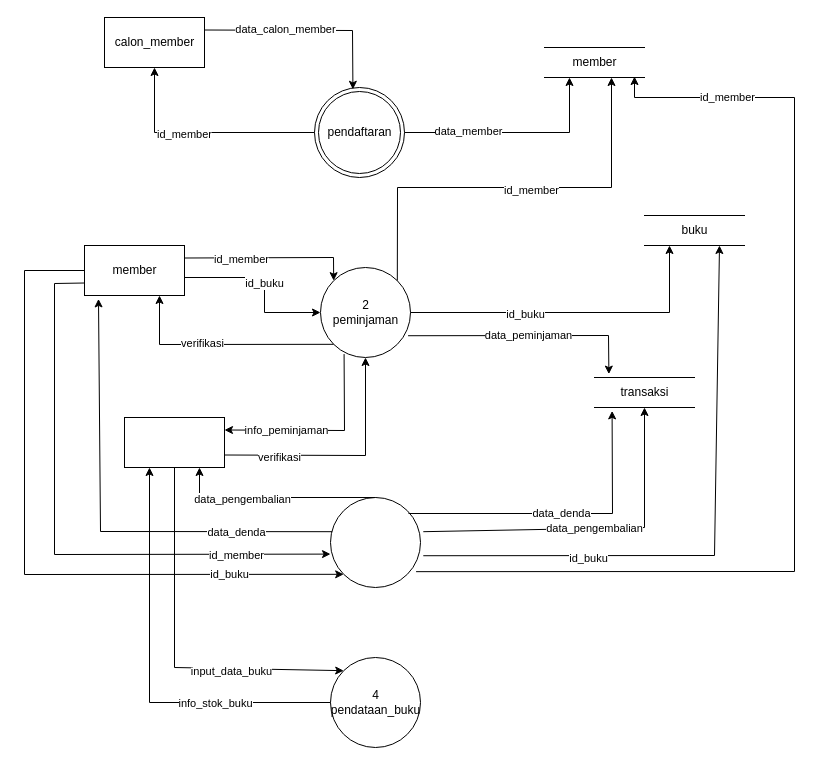
Some shapes in this 820 by 765 pixel diagram are drawn without their labels. Each missing label, with the box of its shape:
3 pengembalian: (330, 496, 420, 588)
admin: (124, 416, 224, 468)
